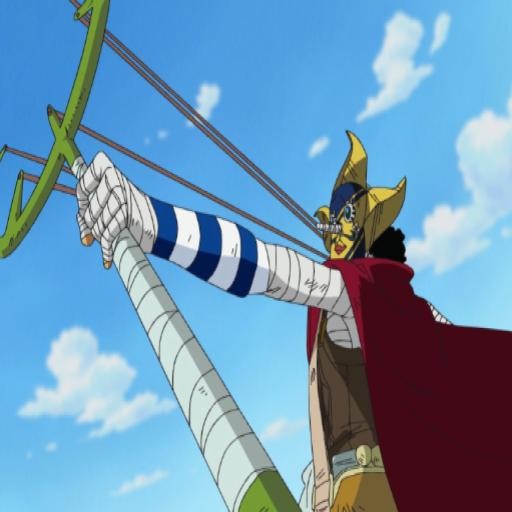Usopp: (2, 4, 512, 512)
